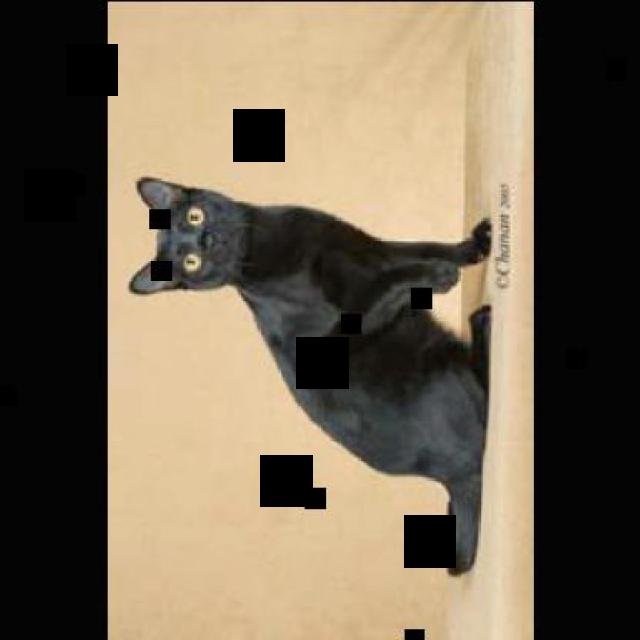unauthorized: (128, 174, 492, 575)
